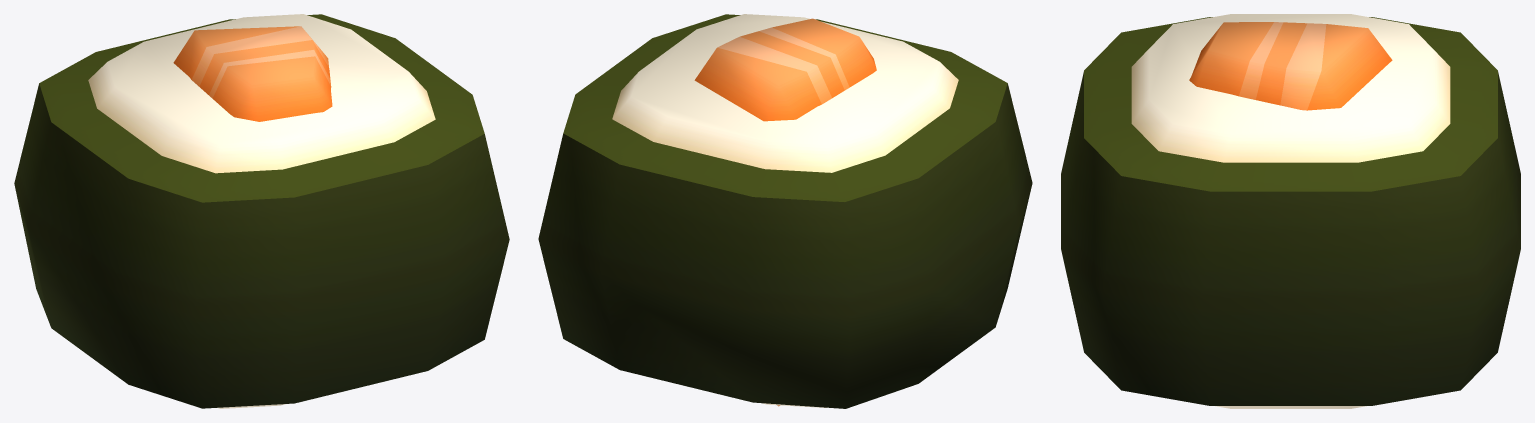
The model's file is Sushi_Small_Nori_004.gltf.
The picture shows the model from 3 angles, left to right: view 1: azimuth 30°, elevation 25°; view 2: azimuth 150°, elevation 25°; view 3: azimuth 270°, elevation 25°; orthographic projection. The views are drawn at different scales.
Parts seen in each view (by area): view 1: Sushi_Small_Nori_004_x; view 2: Sushi_Small_Nori_004_x; view 3: Sushi_Small_Nori_004_x.
Boxes of the visible parts, x1,y1,x2,y2 form: Sushi_Small_Nori_004_x: (14,14,509,408); Sushi_Small_Nori_004_x: (538,14,1032,408); Sushi_Small_Nori_004_x: (1061,14,1520,408).
Size of the model in its own units: 0.6758 by 0.5447 by 0.6758.
1 material, 1 textured.
